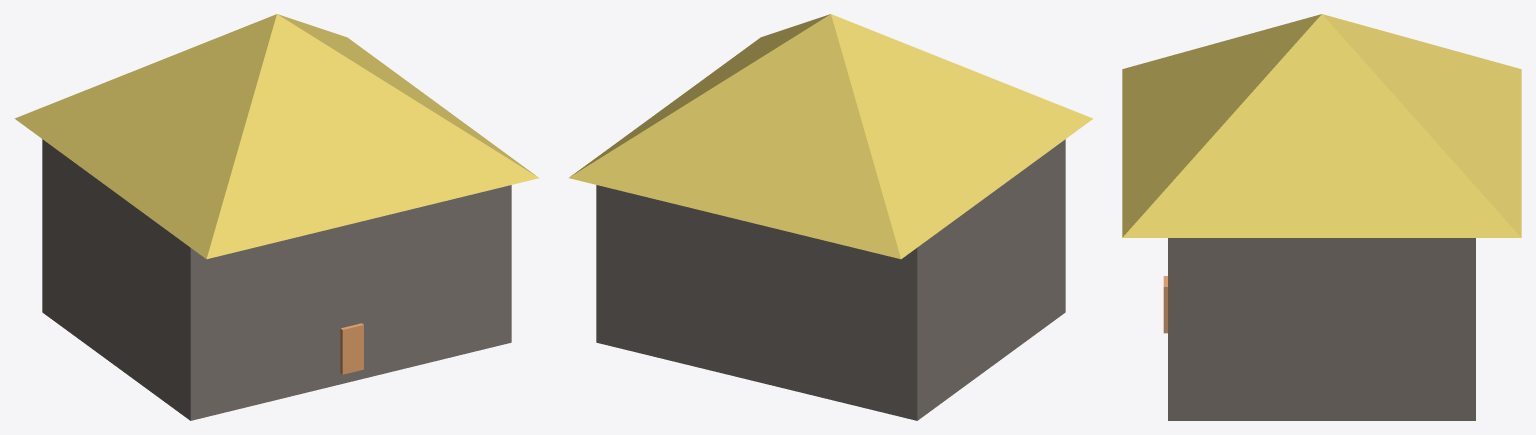
File: townhall_bsi.glb
The picture shows the model from 3 angles, left to right: view 1: azimuth 30°, elevation 25°; view 2: azimuth 150°, elevation 25°; view 3: azimuth 270°, elevation 25°; orthographic projection. The views are drawn at different scales.
Visible parts, largest first — view 1: TownHall_Base, TownHall_Roof, TownHall_Door; view 2: TownHall_Base, TownHall_Roof; view 3: TownHall_Roof, TownHall_Base.
Boxes of the visible parts, x1,y1,x2,y2 form: TownHall_Base: (42,139,511,420); TownHall_Roof: (14,14,539,259); TownHall_Door: (340,323,363,374); TownHall_Base: (596,139,1065,420); TownHall_Roof: (569,14,1092,259); TownHall_Roof: (1122,14,1521,237); TownHall_Base: (1168,238,1475,420).
Bounding box in the file's own units: 3.11 × 2.8 × 3.11.
